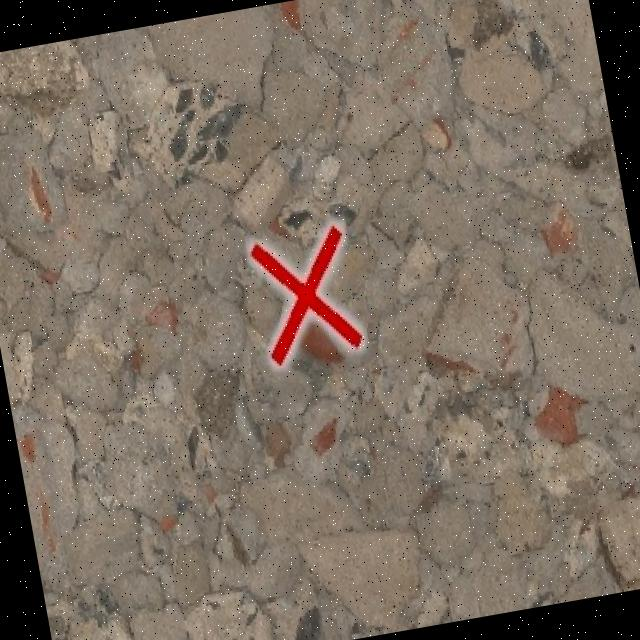x_marker: (248, 223, 363, 365)
